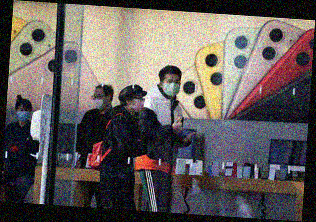with_mask: (163, 78, 181, 97), (92, 91, 106, 110), (131, 96, 146, 113), (16, 106, 30, 123)
